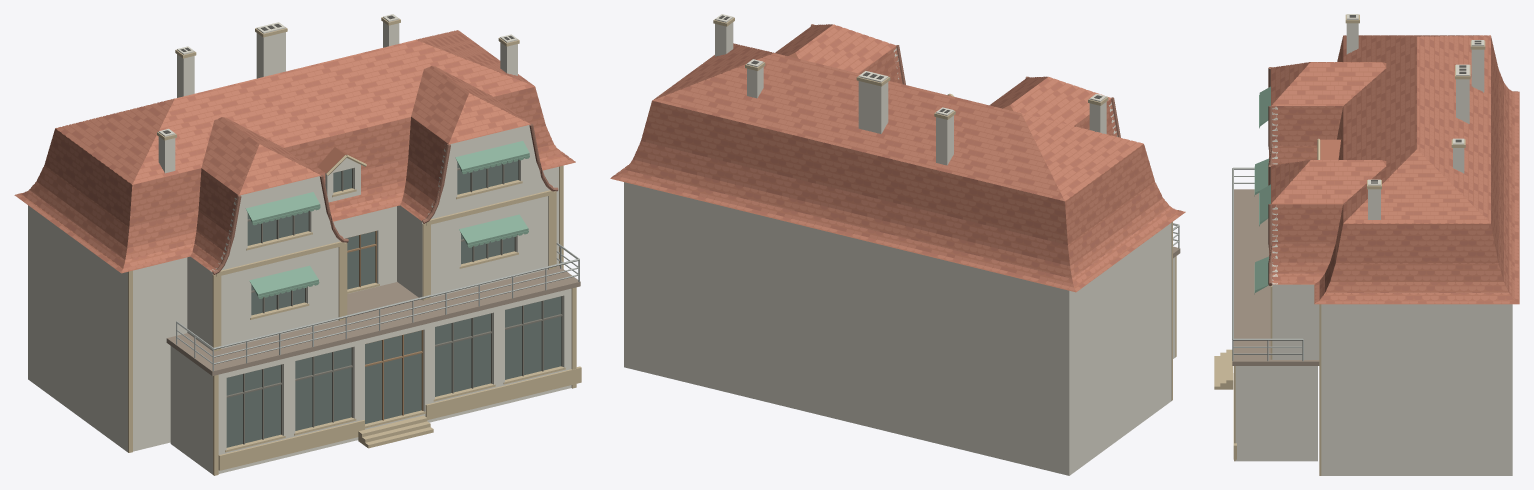
The model's file is xuhui-yueyang-road-145-residence-lod.glb.
The picture shows the model from 3 angles, left to right: view 1: azimuth 30°, elevation 25°; view 2: azimuth 150°, elevation 25°; view 3: azimuth 270°, elevation 25°; orthographic projection. The views are drawn at different scales.
Visible parts, largest first — view 1: 岳阳路145号花园住宅南立面与折檐红瓦屋顶; view 2: 岳阳路145号花园住宅南立面与折檐红瓦屋顶; view 3: 岳阳路145号花园住宅南立面与折檐红瓦屋顶.
Part boxes in pixels (bbox=[...]): 岳阳路145号花园住宅南立面与折檐红瓦屋顶: bbox=[14, 14, 581, 475]; 岳阳路145号花园住宅南立面与折檐红瓦屋顶: bbox=[610, 14, 1185, 475]; 岳阳路145号花园住宅南立面与折檐红瓦屋顶: bbox=[1214, 14, 1519, 475].
Bounding box in the file's own units: 21.7 × 14.51 × 13.17.
